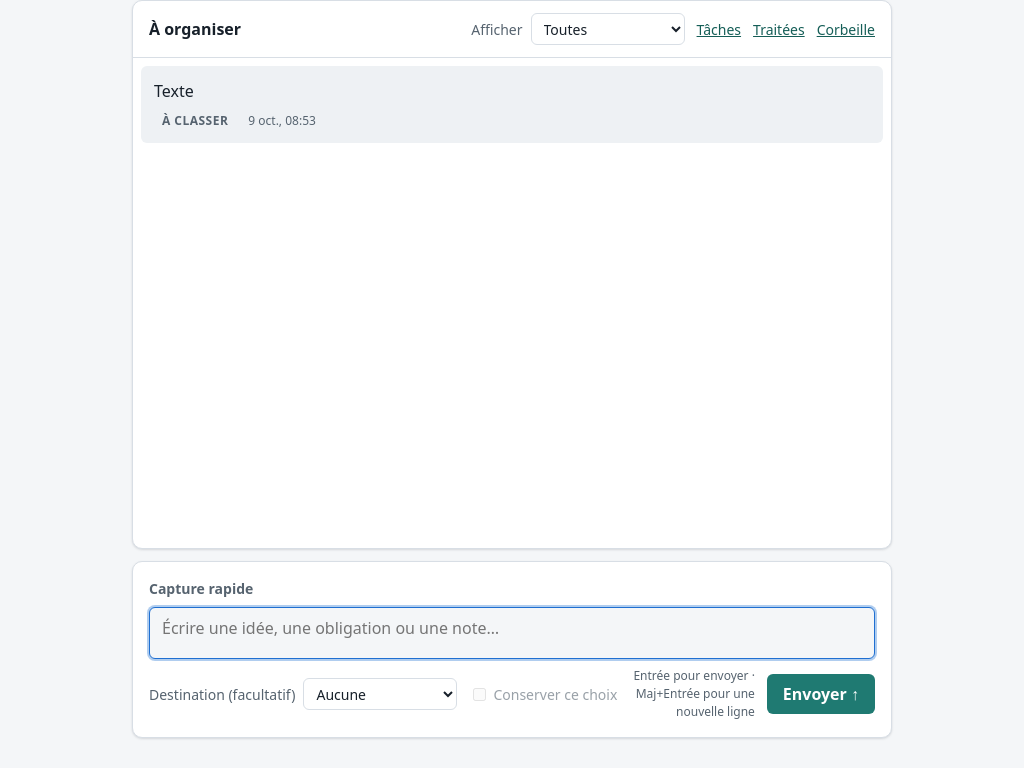
Test: Fermeture de la fenêtre protégée › fiche modifiée → « Continuer à modifier » : la fenêtre reste ouverte
Click the button "Texte À classer 9 oct., 08:53": (174, 91) [142,67,882,142]
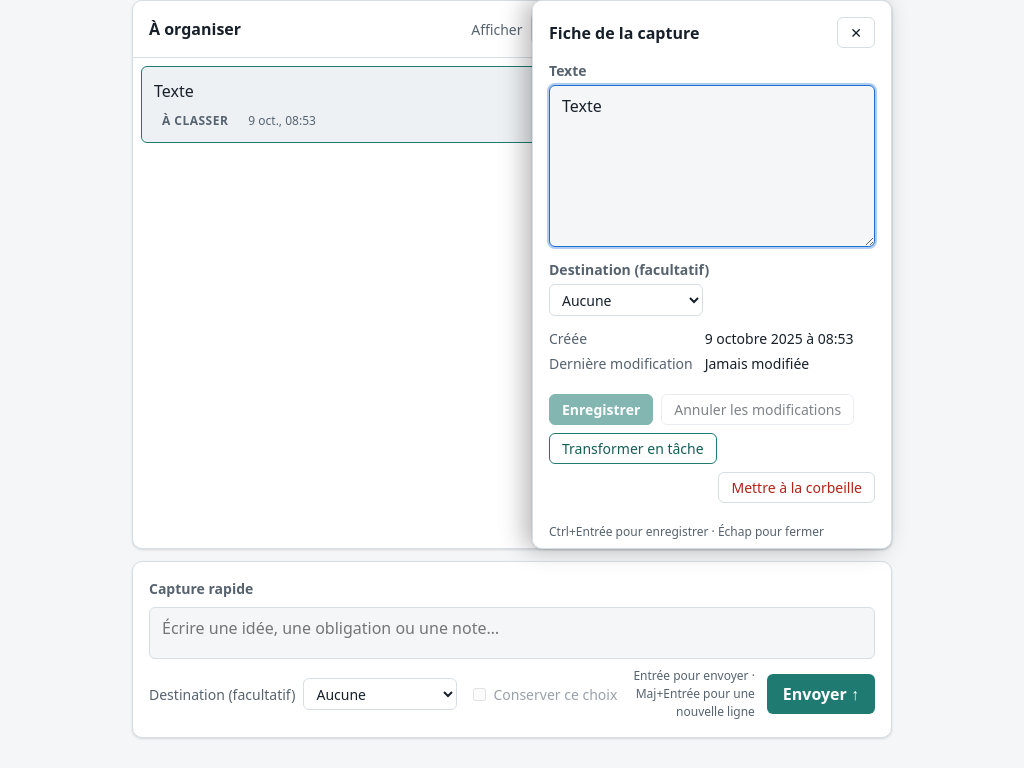
Replace the text in the text box labelled "Texte" with "Brouillon": (712, 166) [549,85,875,247]
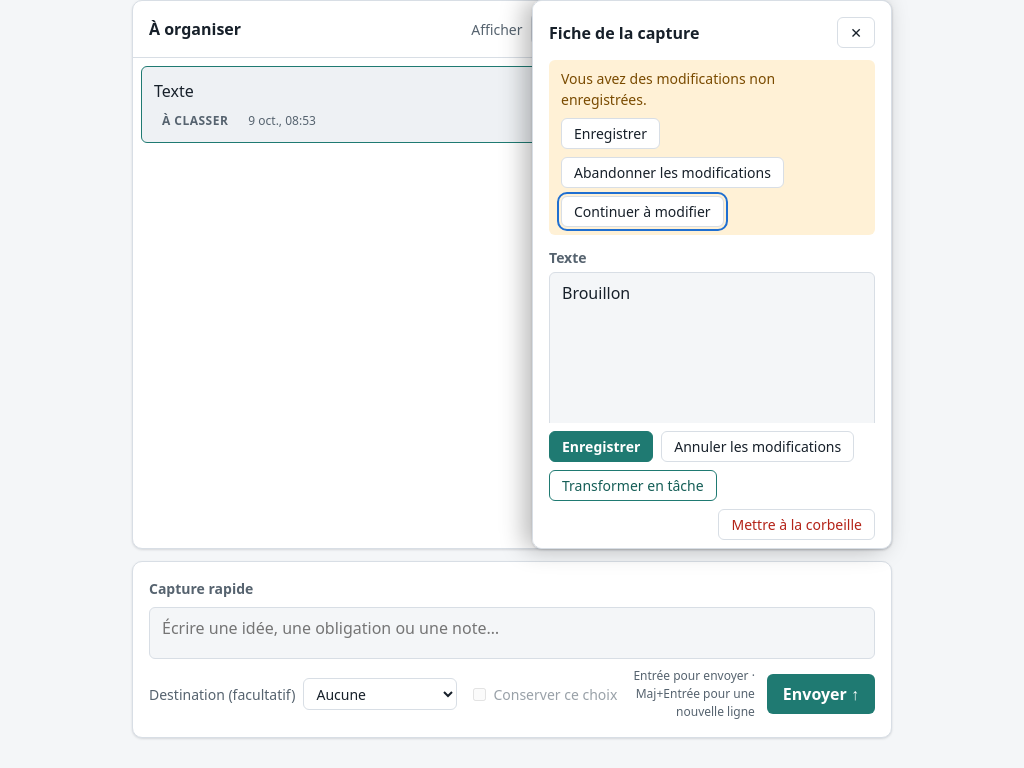
Click the button "Continuer à modifier": (642, 212) [561,196,724,227]
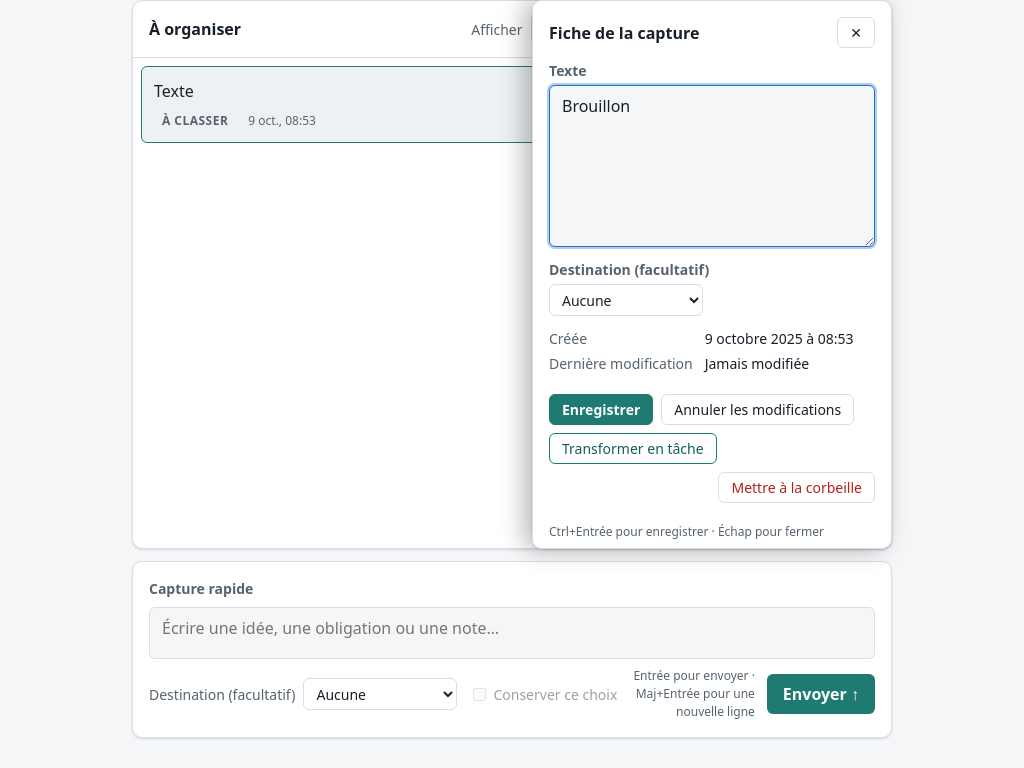
Expected: the text "modifications non enregistrées" is gone
